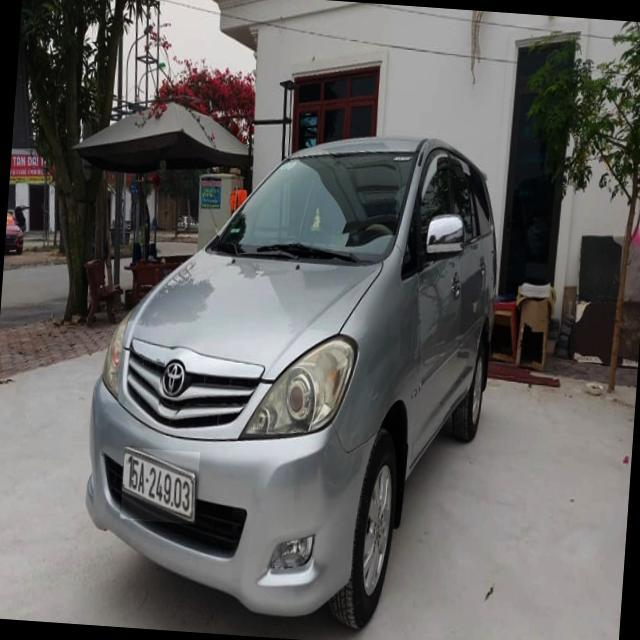car: (99, 128, 507, 621)
plate: (117, 447, 200, 525)
